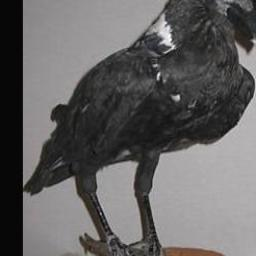Crow: (25, 0, 256, 256)
